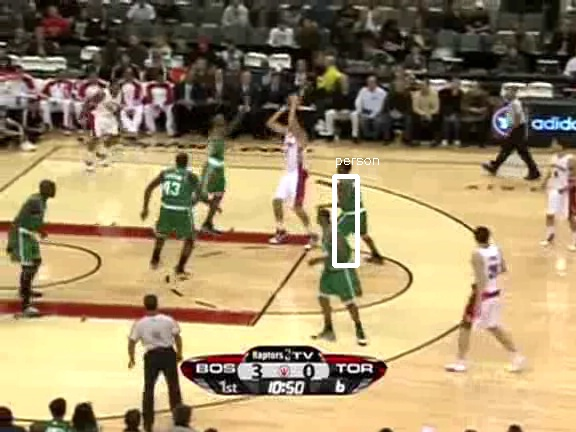person: (333, 165, 367, 246), (332, 165, 366, 246), (334, 165, 368, 246), (333, 164, 367, 245), (333, 166, 367, 247)
target_negative: (12, 297, 462, 350), (368, 174, 500, 314), (525, 346, 545, 410), (157, 335, 167, 401), (566, 47, 571, 157)
